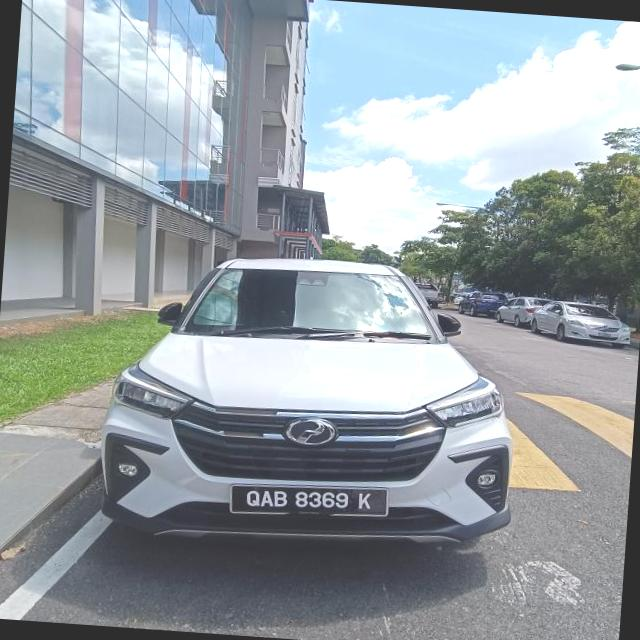PeroduaAtiva: (92, 242, 529, 560)
